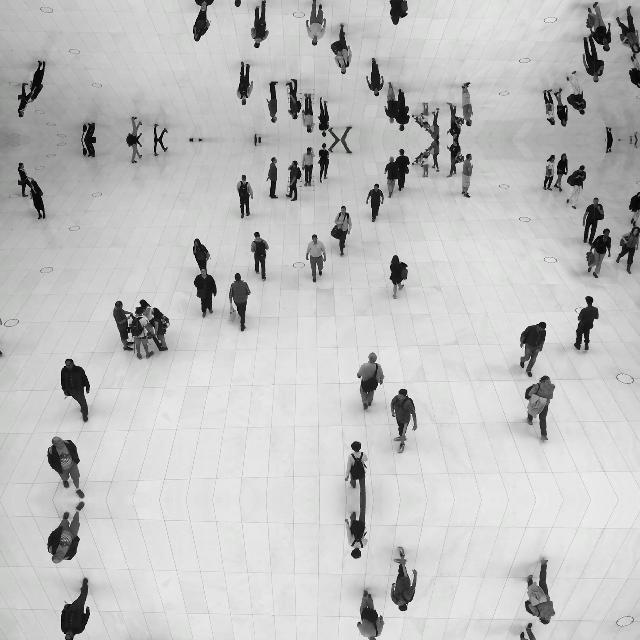person: (47, 436, 85, 498), (47, 502, 85, 564), (524, 375, 556, 441), (524, 559, 556, 625), (59, 577, 90, 640), (60, 358, 90, 422), (390, 388, 418, 454), (390, 546, 418, 612), (356, 352, 384, 411), (519, 322, 547, 378), (355, 589, 384, 640), (228, 272, 252, 332), (345, 440, 369, 500), (345, 500, 369, 560), (574, 296, 598, 352), (586, 228, 612, 278), (586, 2, 612, 52), (131, 308, 155, 360), (615, 225, 640, 274), (615, 5, 640, 54), (193, 268, 217, 318), (113, 300, 135, 352), (330, 206, 352, 256), (582, 197, 604, 247), (330, 24, 352, 74), (582, 33, 604, 83), (250, 231, 270, 281), (305, 0, 326, 46), (306, 234, 326, 282), (250, 0, 269, 49), (388, 254, 408, 300), (566, 164, 586, 210), (566, 70, 586, 116), (150, 308, 170, 352), (236, 174, 254, 218), (236, 62, 254, 106), (394, 148, 411, 192), (394, 88, 411, 132), (193, 238, 211, 278), (366, 183, 384, 223), (28, 180, 46, 220), (366, 57, 384, 97), (28, 60, 46, 100), (193, 3, 211, 42), (384, 82, 400, 125), (286, 160, 302, 202), (300, 146, 316, 188), (384, 156, 400, 198), (286, 78, 302, 120), (300, 92, 316, 134), (17, 162, 35, 198), (17, 82, 35, 118), (446, 140, 462, 178), (446, 102, 462, 140), (136, 298, 156, 326), (554, 152, 568, 192), (554, 88, 568, 128), (462, 153, 474, 199), (462, 81, 474, 127), (542, 154, 556, 192), (519, 621, 547, 640), (542, 88, 556, 126), (266, 157, 278, 199), (266, 81, 278, 123), (388, 0, 408, 25), (318, 143, 330, 183), (318, 97, 330, 137), (628, 190, 640, 226), (628, 54, 640, 90), (428, 140, 440, 172), (126, 140, 142, 164), (428, 108, 440, 140), (126, 116, 142, 140), (328, 140, 352, 154), (419, 150, 431, 178), (328, 126, 352, 140), (419, 102, 431, 130), (193, 0, 217, 12), (152, 140, 168, 156), (152, 124, 168, 140), (82, 140, 96, 158), (82, 122, 96, 140), (228, 0, 251, 7), (606, 140, 614, 154), (606, 126, 614, 140), (254, 140, 262, 146), (254, 134, 262, 140)
